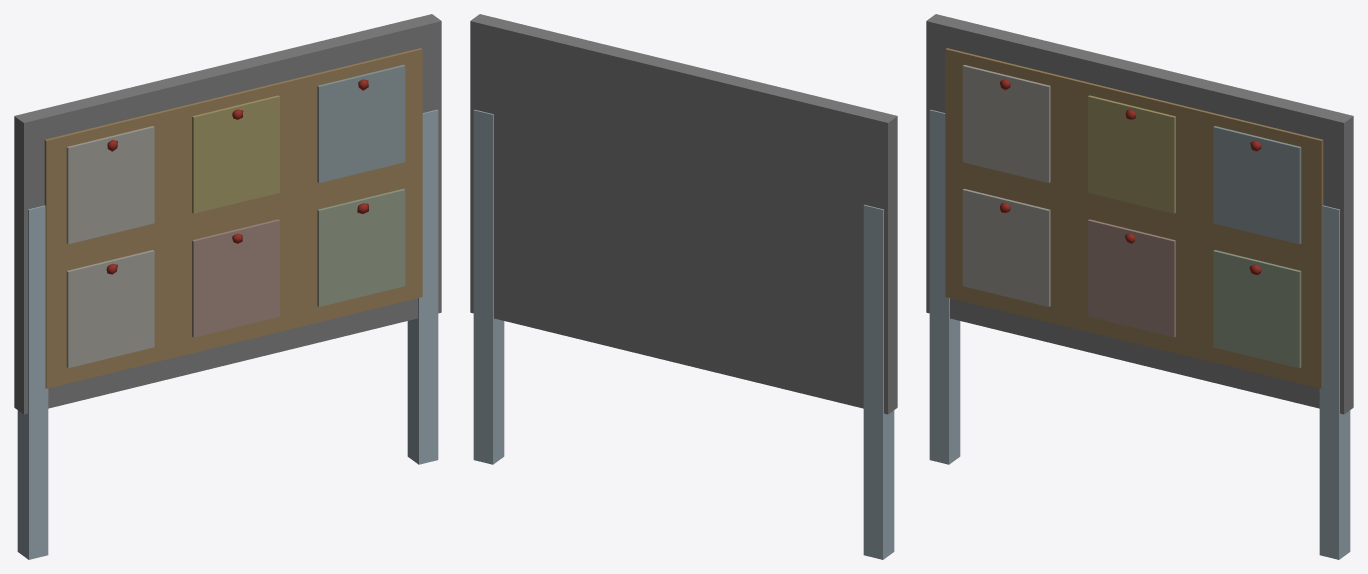
File: board_delivery.glb
3 renders of one model, left to right at view 1: azimuth 30°, elevation 25°; view 2: azimuth 150°, elevation 25°; view 3: azimuth 330°, elevation 25°, orthographic.
Parts seen in each view (by area): view 1: board_delivery; view 2: board_delivery; view 3: board_delivery.
Boxes of the visible parts, left/top/right/bottom form: board_delivery: left=14, top=14, right=441, bottom=559; board_delivery: left=470, top=14, right=897, bottom=559; board_delivery: left=926, top=14, right=1353, bottom=559.
Size of the model in its own units: 3 by 3 by 0.2186.
